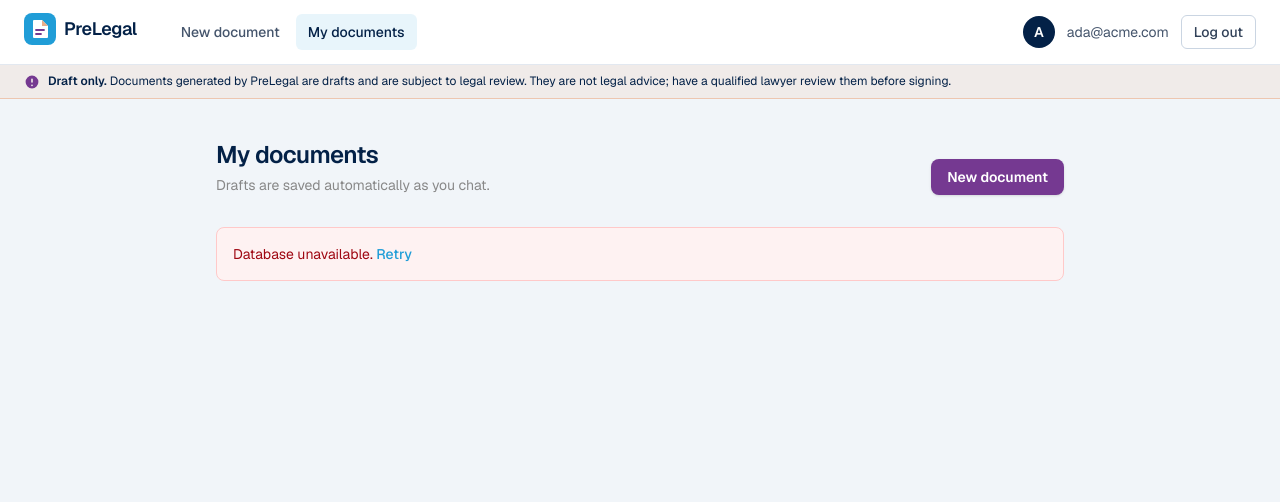
Test case: DocumentsList › shows an error and retries
expect the message shows "Database unavailable.": met, box [233,245,373,263]
Click the button "Retry".
click(394, 254)  # box [376,244,412,264]
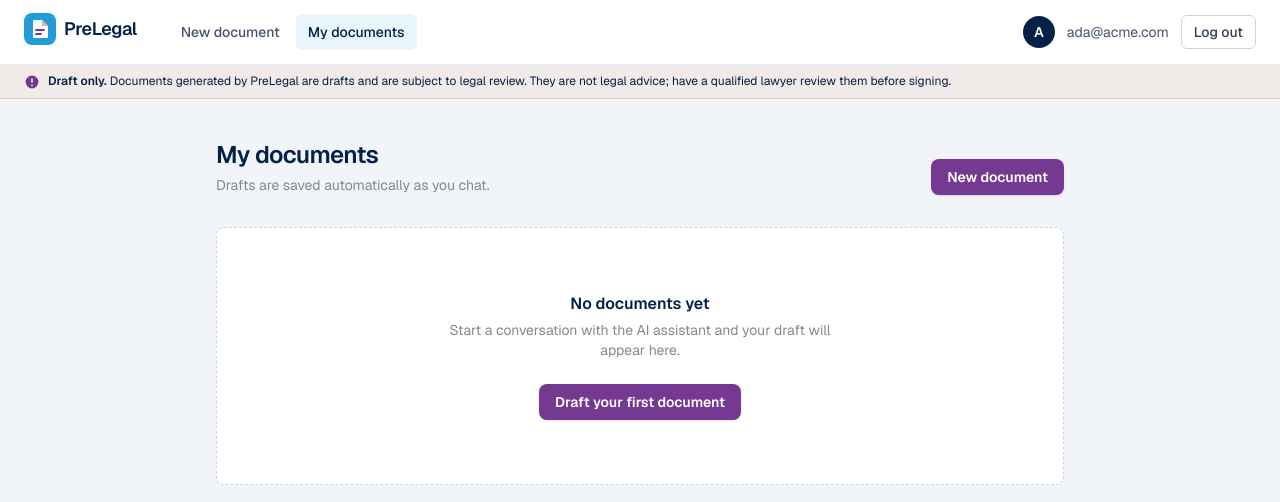
expect the heading "No documents yet" is shown: met, box [570,293,710,314]
